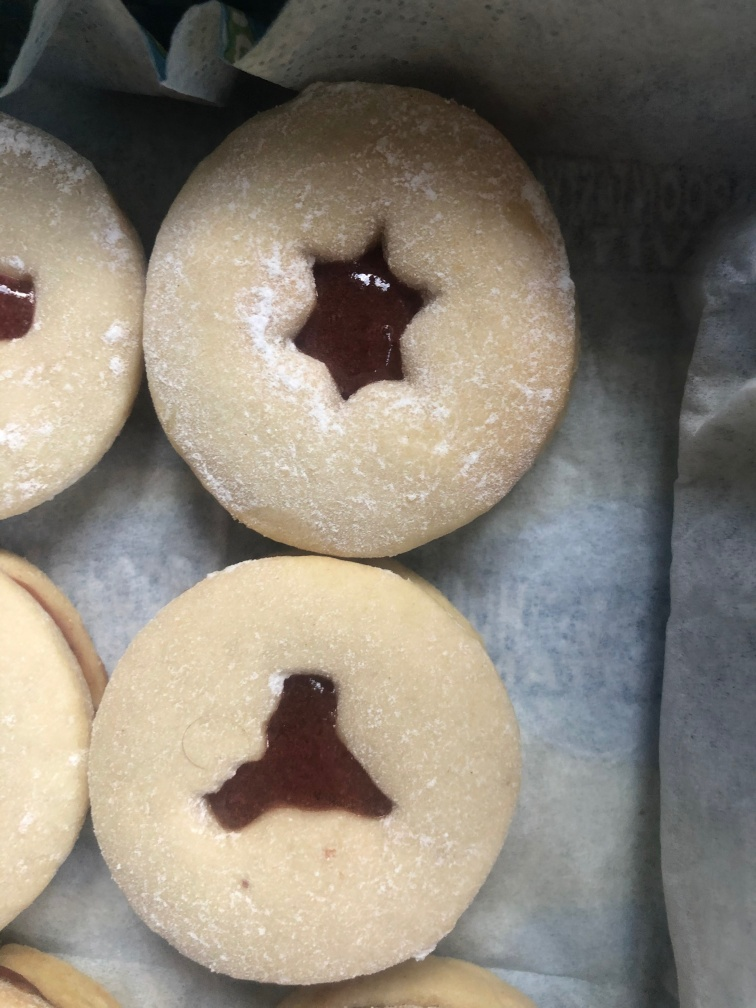christmas shortbread with jam: (145, 78, 576, 551), (94, 551, 523, 988), (3, 118, 126, 539)
